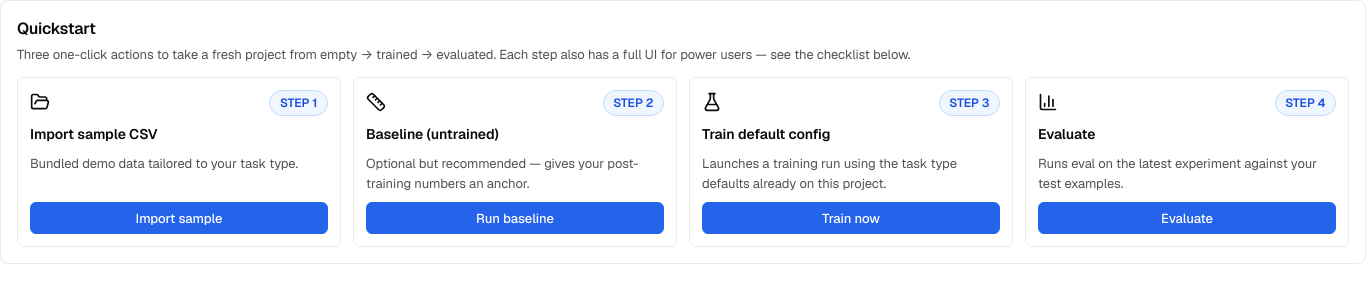
Test case: QuickstartCard › does not re-show a nudge whose id is already in initialDismissedNudges
Step 1. Click the button with test id "quickstart-import-button" → (179, 218), box [30, 202, 328, 234]
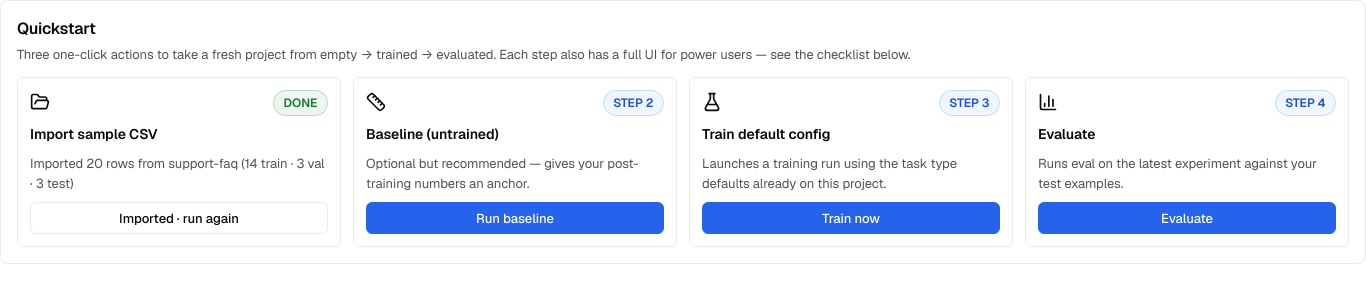
Expected: the text with test id "quickstart-import-badge" reads "Done", [284, 95, 317, 111]
